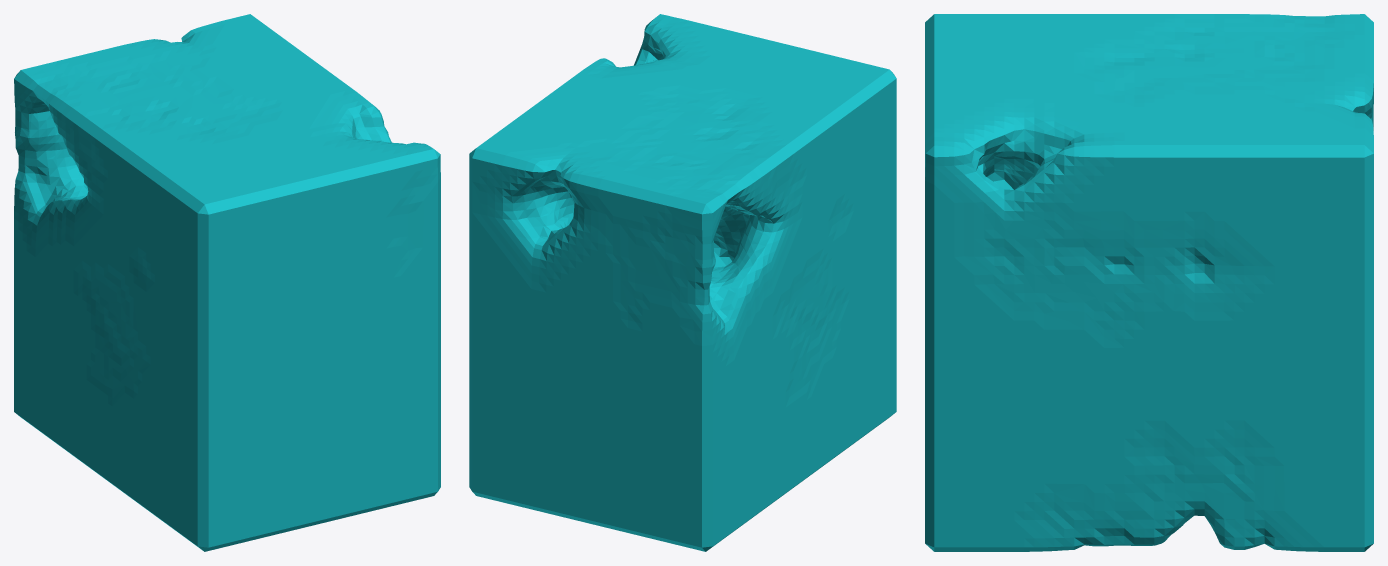
3 renders of one model, left to right at view 1: azimuth 30°, elevation 25°; view 2: azimuth 150°, elevation 25°; view 3: azimuth 270°, elevation 25°, orthographic. The views are drawn at different scales.
Parts seen in each view (by area): view 1: Liquid_Domain; view 2: Liquid_Domain; view 3: Liquid_Domain.
Boxes of the visible parts, <box> form: Liquid_Domain: <box>14,14,440,551</box>; Liquid_Domain: <box>469,14,896,551</box>; Liquid_Domain: <box>925,14,1373,551</box>.
Bounding box in the file's own units: 79.09 × 108 × 108.
